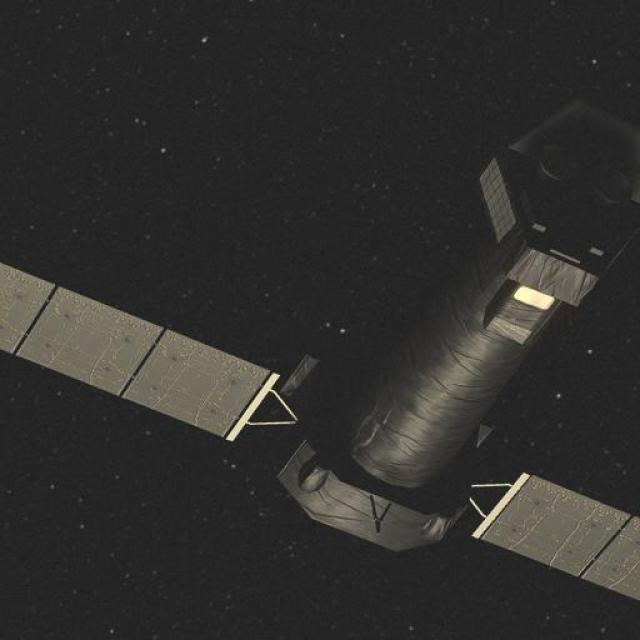xmm_newton: (17, 133, 640, 607)
